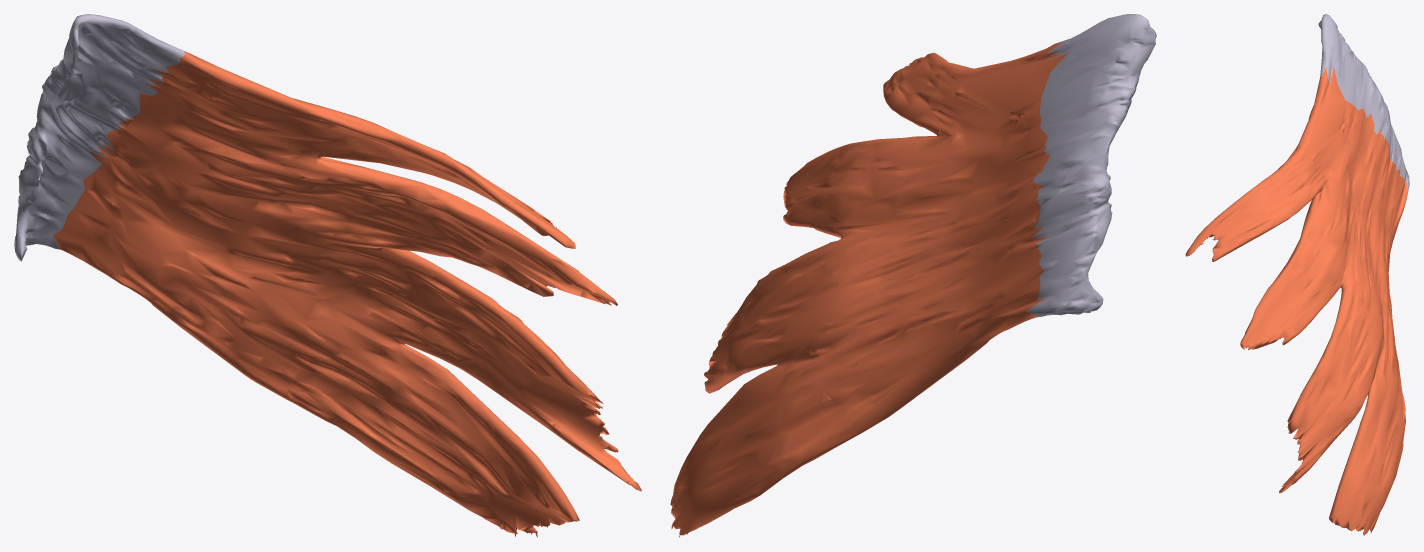
File: Serratus_posterior_superior_left.glb
3 renders of one model, left to right at view 1: azimuth 30°, elevation 25°; view 2: azimuth 150°, elevation 25°; view 3: azimuth 270°, elevation 25°, orthographic. The views are drawn at different scales.
Visible parts, largest first — view 1: Serratus_posterior_superior_muscle.l_Generated_Mesh_From_X3D; view 2: Serratus_posterior_superior_muscle.l_Generated_Mesh_From_X3D; view 3: Serratus_posterior_superior_muscle.l_Generated_Mesh_From_X3D.
Boxes of the visible parts, bbox=[...] form: Serratus_posterior_superior_muscle.l_Generated_Mesh_From_X3D: bbox=[14, 14, 641, 537]; Serratus_posterior_superior_muscle.l_Generated_Mesh_From_X3D: bbox=[670, 14, 1156, 537]; Serratus_posterior_superior_muscle.l_Generated_Mesh_From_X3D: bbox=[1185, 14, 1409, 535].
Bounding box in the file's own units: 0.1055 × 0.1261 × 0.0664.
